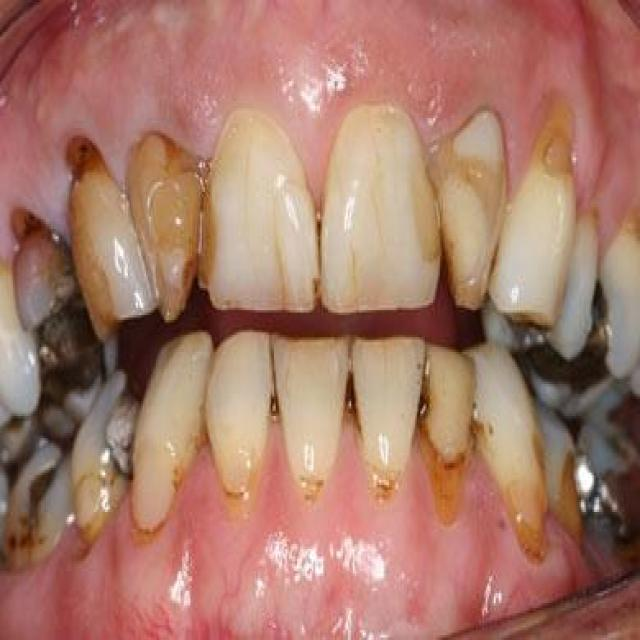Caries: (34, 293, 107, 401), (105, 374, 143, 487), (16, 214, 75, 276), (581, 278, 609, 372), (28, 465, 56, 517), (418, 374, 430, 423), (346, 372, 356, 416), (182, 263, 194, 290), (21, 514, 38, 529), (20, 529, 33, 546), (473, 421, 484, 436), (376, 482, 394, 490), (8, 534, 16, 551)
Tooth: (320, 103, 443, 315), (205, 108, 320, 315), (16, 214, 118, 421), (487, 101, 578, 325), (466, 345, 550, 559), (71, 140, 154, 342), (428, 111, 509, 313), (131, 332, 213, 529), (128, 138, 210, 322), (272, 332, 351, 502), (71, 369, 143, 554), (350, 337, 427, 497), (205, 330, 274, 505), (417, 345, 478, 527), (579, 199, 638, 379), (538, 212, 601, 362), (7, 446, 72, 571), (542, 411, 586, 549)
